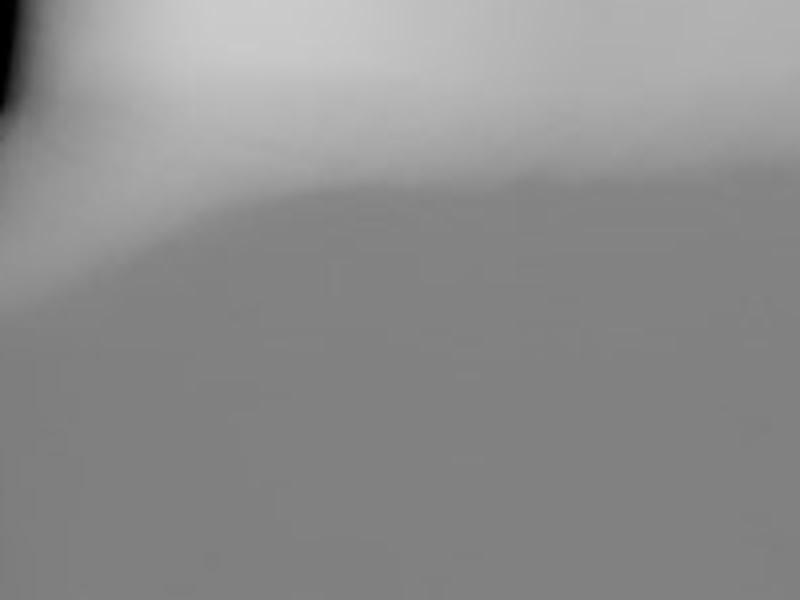defect: (1, 1, 23, 124)
